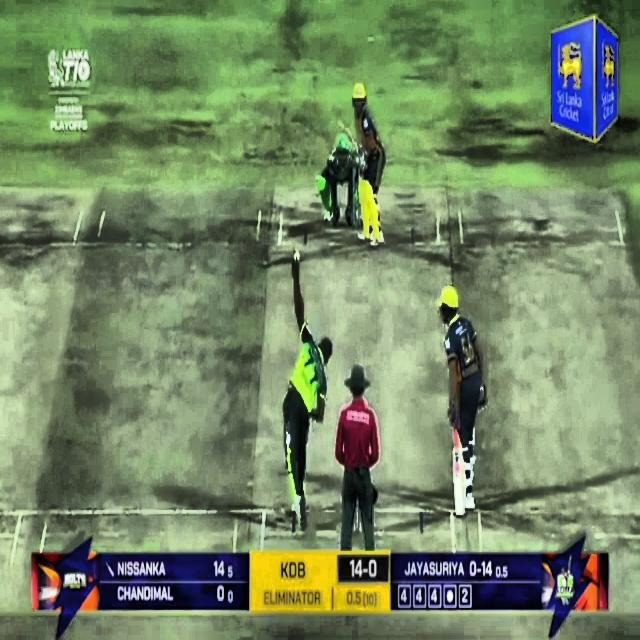Left-stump: (353, 172, 356, 227)
Middle-stump: (358, 209, 361, 226)
